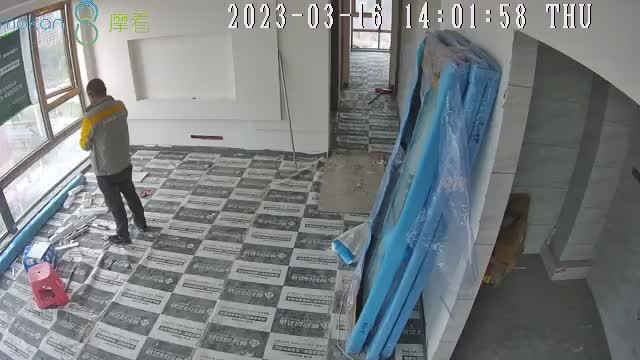people: (80, 79, 148, 245)
window: (1, 6, 96, 245), (352, 1, 391, 48)
